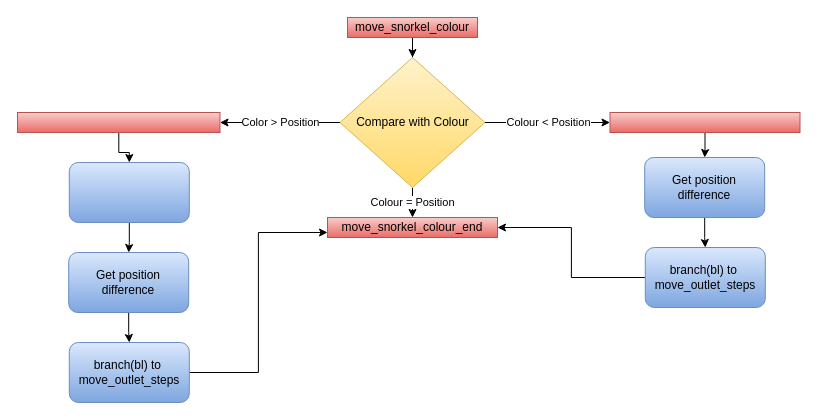
The diagram is 818 pixels wide and 420 high, and some of its shapes have lost their labels. The box of each missing label's shape, as (x1, y1, x2, y2) in pixels:
Colour += 400 (360°): (68, 162, 189, 222)
move_snorkel_colour_backwards: (16, 112, 220, 132)
move_snorkel_colour_forwards: (609, 112, 800, 132)
